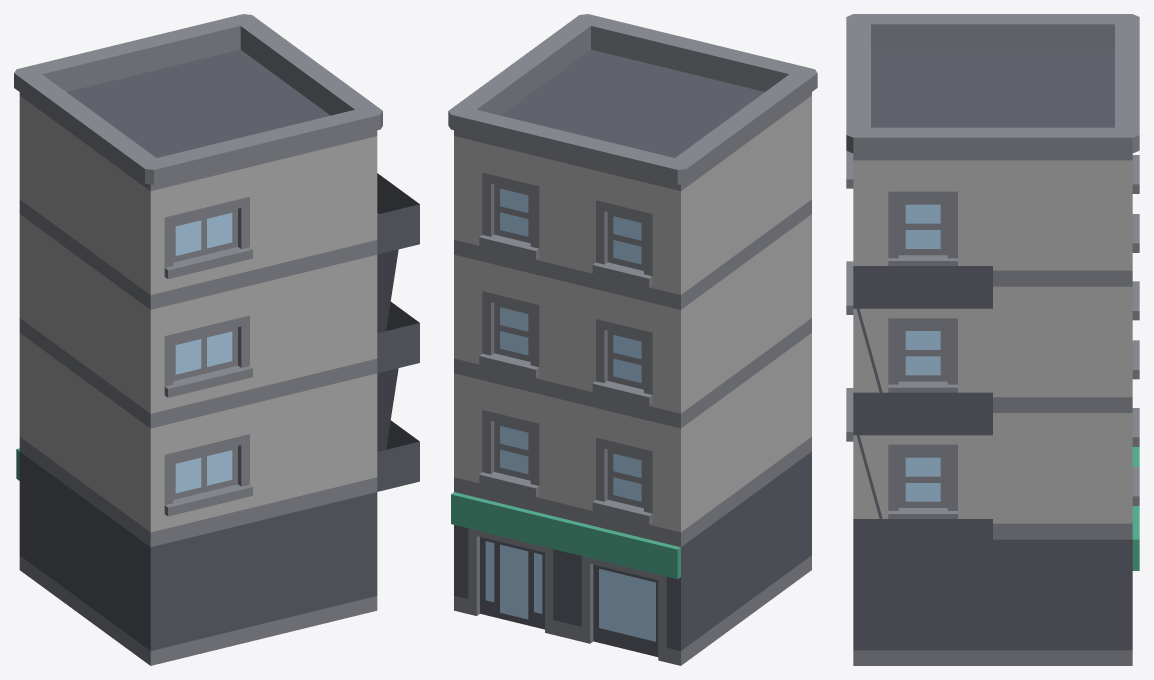
Rendered from large_buildingC.dae.
3 views of the same model, side by side, from view 1: azimuth 30°, elevation 25°; view 2: azimuth 150°, elevation 25°; view 3: azimuth 270°, elevation 25° (orthographic). The views are drawn at different scales.
Visible parts, largest first — view 1: large_buildingC; view 2: large_buildingC; view 3: large_buildingC.
Boxes of the visible parts, x1,y1,x2,y2 form: large_buildingC: (14,14,419,665); large_buildingC: (448,14,817,665); large_buildingC: (846,14,1139,665).
Size of the model in its own units: 0.97 by 1.68 by 0.84.
